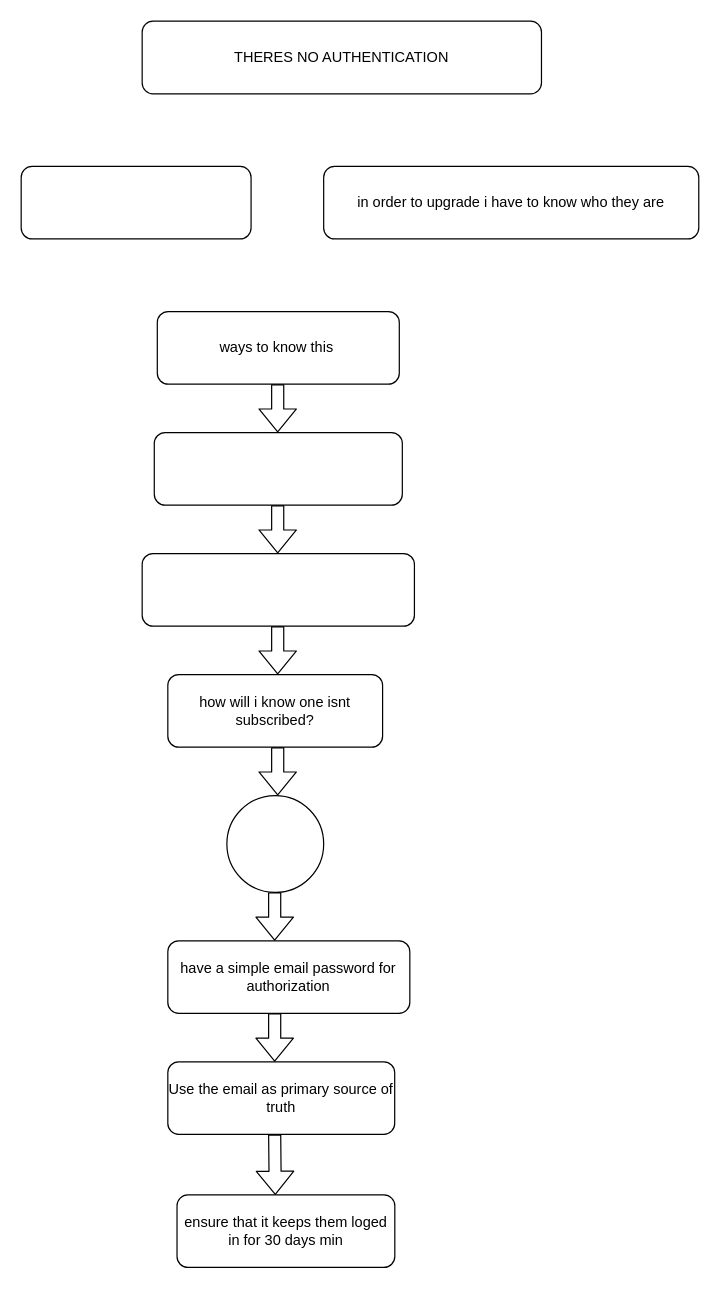
Some shapes in this 720 by 1289 pixel diagram are drawn without their labels. The centre of each missing label's shape, as x and y in pixels:
"Meaning that i need a db to identify who is subscribed and their tier" belongs at [277,589].
"SOLUTION" belongs at [275,843].
"use email as tis the simplest" belongs at [277,468].
"user want to upgrade" belongs at [135,202].
